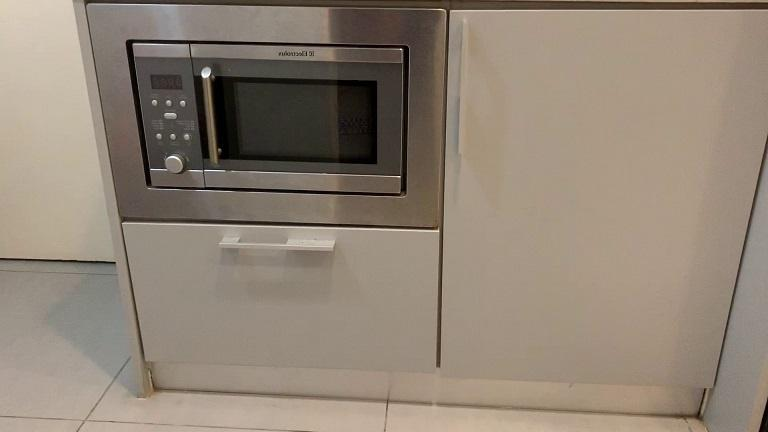cabinet_door: (437, 11, 760, 384), (134, 228, 441, 377)
handle: (210, 231, 344, 261), (451, 13, 469, 161)
